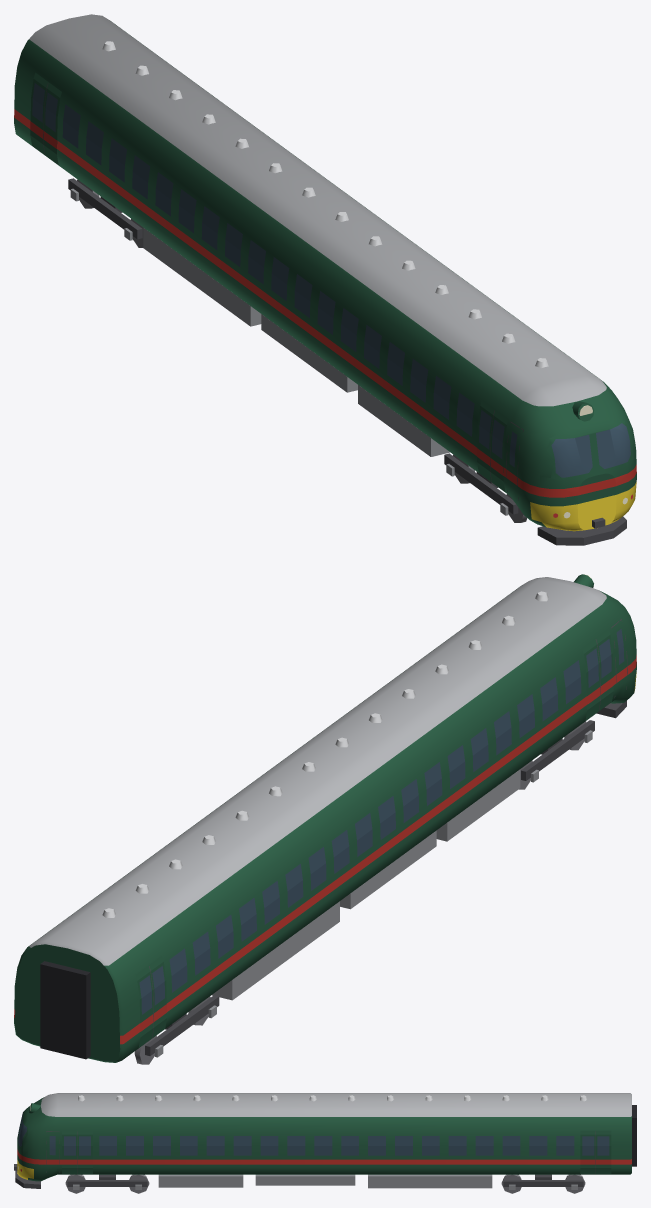
3 renders of one model, top to bottom at view 1: azimuth 30°, elevation 25°; view 2: azimuth 150°, elevation 25°; view 3: azimuth 270°, elevation 25°, orthographic. The views are drawn at different scales.
Parts seen in each view (by area): view 1: 21_3; view 2: 21_3; view 3: 21_3.
Part boxes in pixels (x1,y1,x2,y2): 21_3: (14,14,636,545); 21_3: (14,574,636,1064); 21_3: (14,1093,636,1193).
Bounding box in the file's own units: 2.97 × 3.91 × 25.
